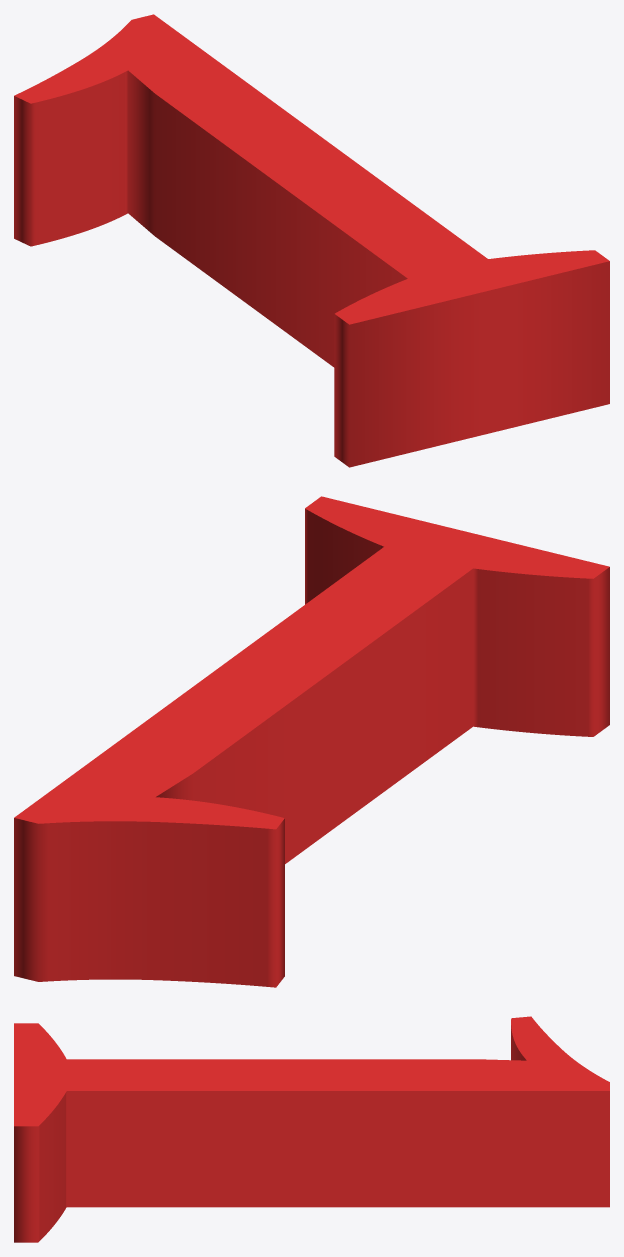
Rendered from one.glb.
The picture shows the model from 3 angles, top to bottom: view 1: azimuth 30°, elevation 25°; view 2: azimuth 150°, elevation 25°; view 3: azimuth 270°, elevation 25°; orthographic projection. The views are drawn at different scales.
Parts seen in each view (by area): view 1: Текст; view 2: Текст; view 3: Текст.
Boxes of the visible parts, x1=… form: Текст: x1=14, y1=14, x2=609, y2=467; Текст: x1=14, y1=496, x2=609, y2=987; Текст: x1=14, y1=1016, x2=609, y2=1242.
Bounding box in the file's own units: 0.2439 × 0.12 × 0.5584.
